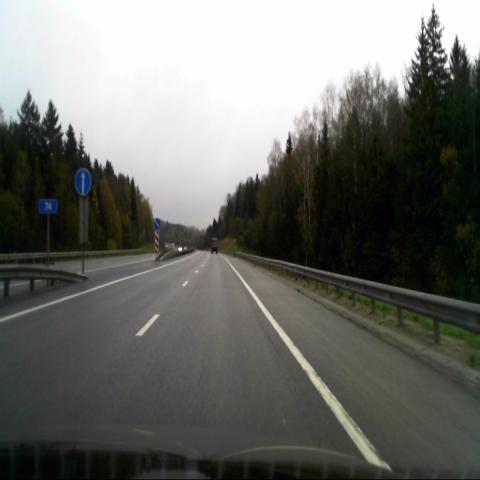4_1_1: (75, 168, 91, 195)
4_2_1: (154, 217, 160, 229)
